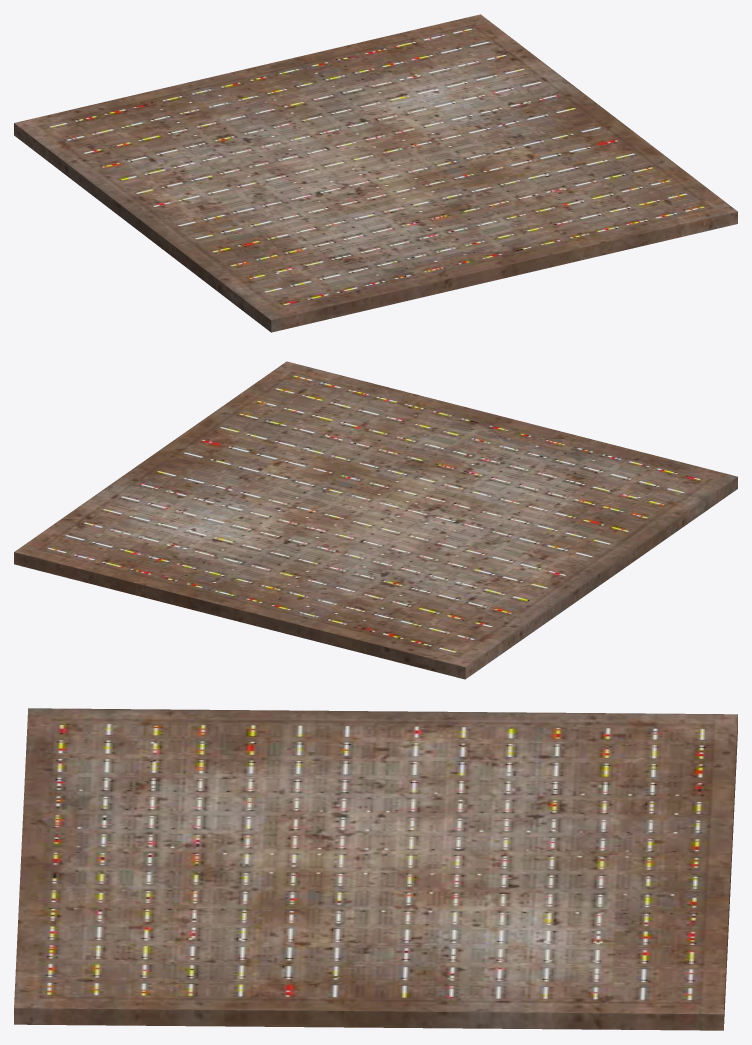
The model's file is walkway_panel.glb.
The picture shows the model from 3 angles, top to bottom: view 1: azimuth 30°, elevation 25°; view 2: azimuth 150°, elevation 25°; view 3: azimuth 270°, elevation 25°; orthographic projection. The views are drawn at different scales.
Visible parts, largest first — view 1: walkway_panel; view 2: walkway_panel; view 3: walkway_panel.
Part boxes in pixels (x1,y1,x2,y2): walkway_panel: (14,14,737,332); walkway_panel: (14,361,737,679); walkway_panel: (14,708,737,1030).
Size of the model in its own units: 2.13 by 0.0533 by 2.13.
Materials: 1 (1 with a texture image).
